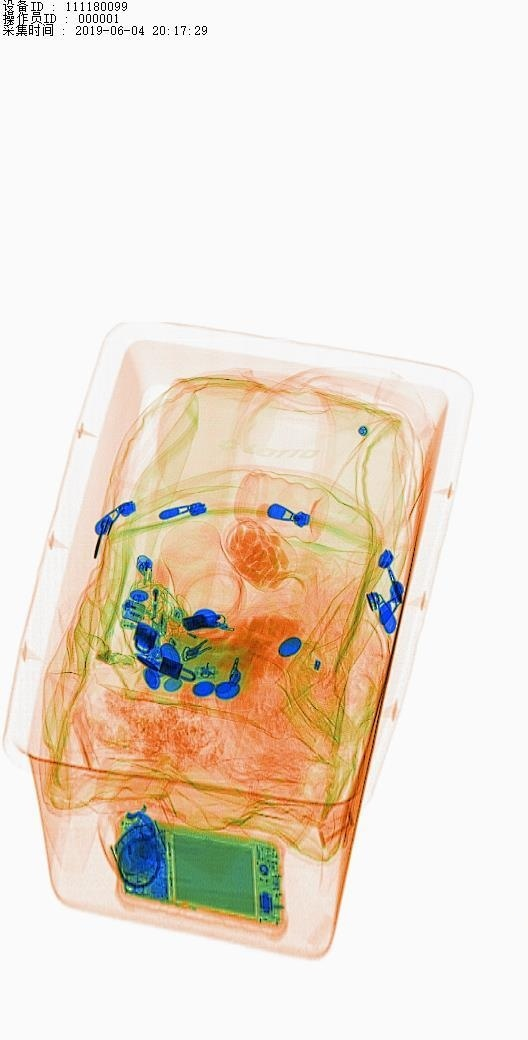NonmetallicFire: (123, 548, 186, 656)
